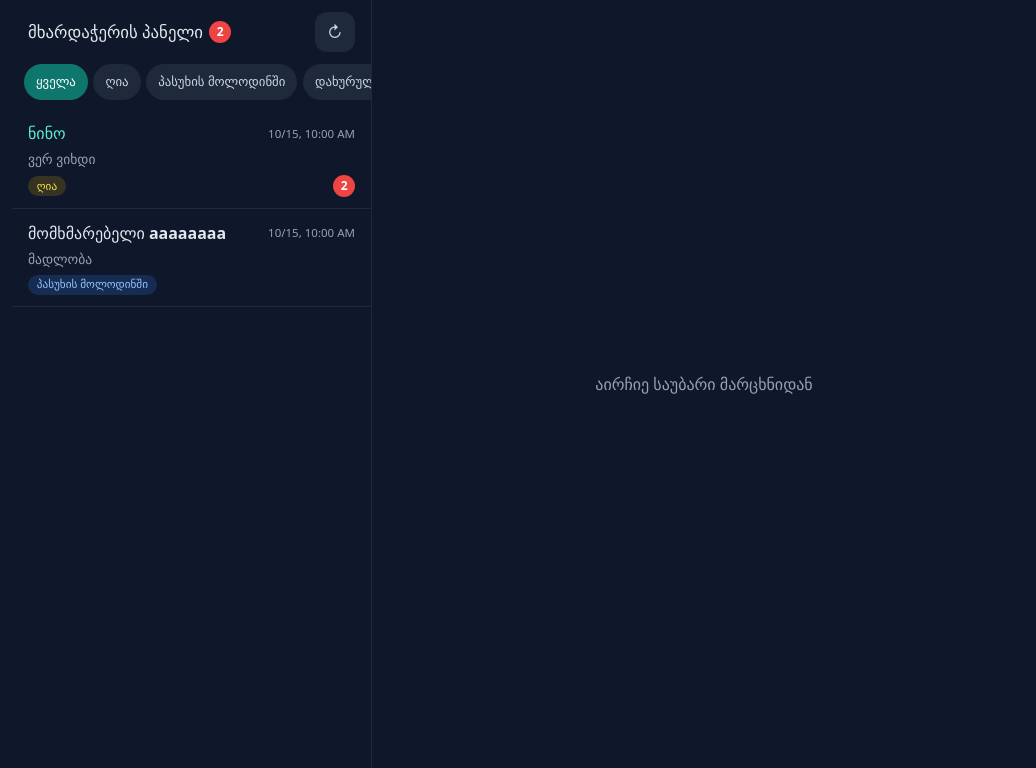
Test: Admin page — workspace › opens a conversation, shows messages and replies as admin; images are not offered to admin
Click the text "ნინო" at [47, 133], box [28,121,66,145]
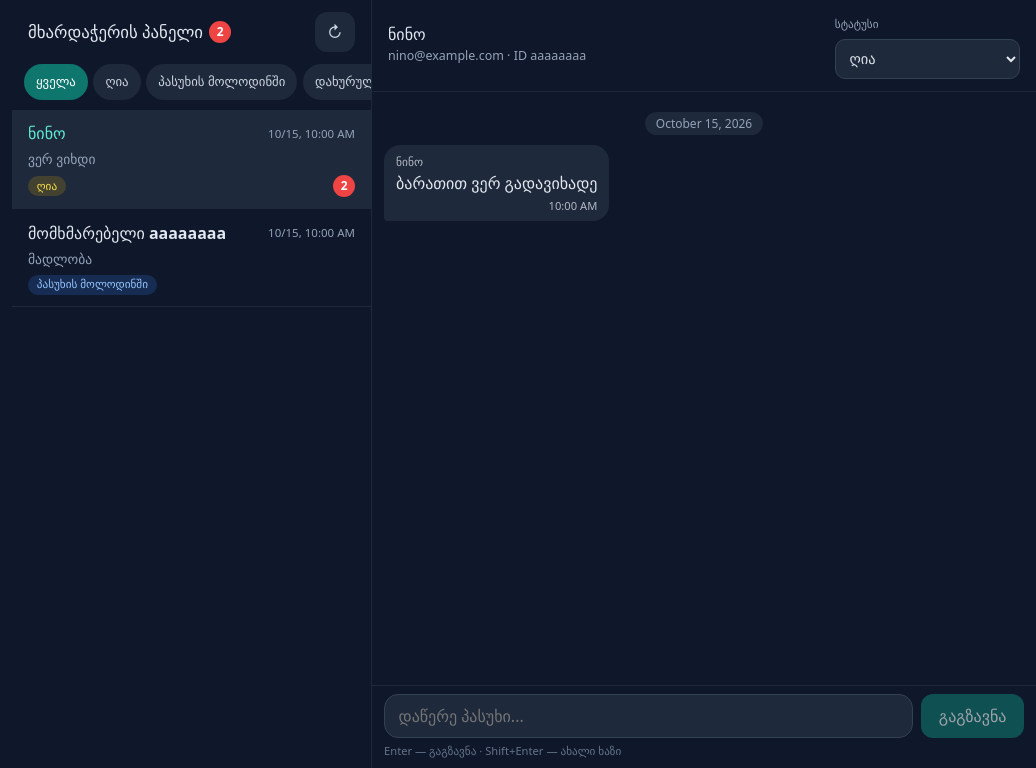
Expected: the text "ბარათით ვერ გადავიხადე" is shown, [396,172,597,195]
Type "გამარჯობა, ვაგვარებთ" into the text box with placeholder "დაწერე პასუხი..." at [649, 716], box [384,694,913,738]
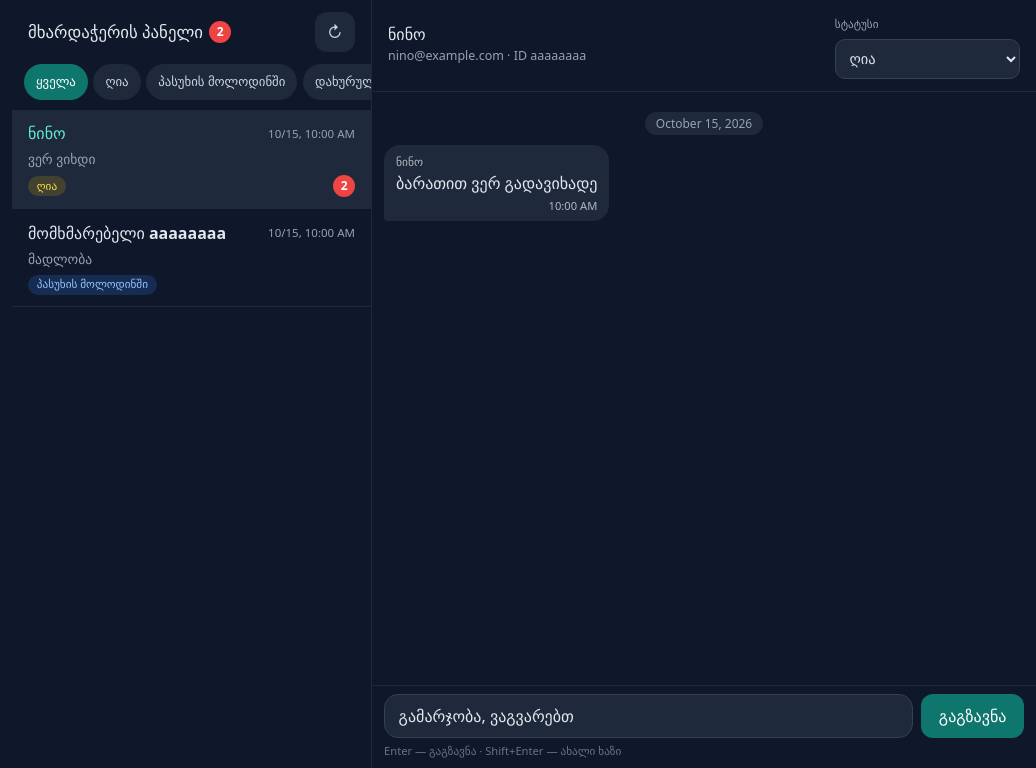
Press Enter in the text box with placeholder "დაწერე პასუხი...", box [384,694,913,738]
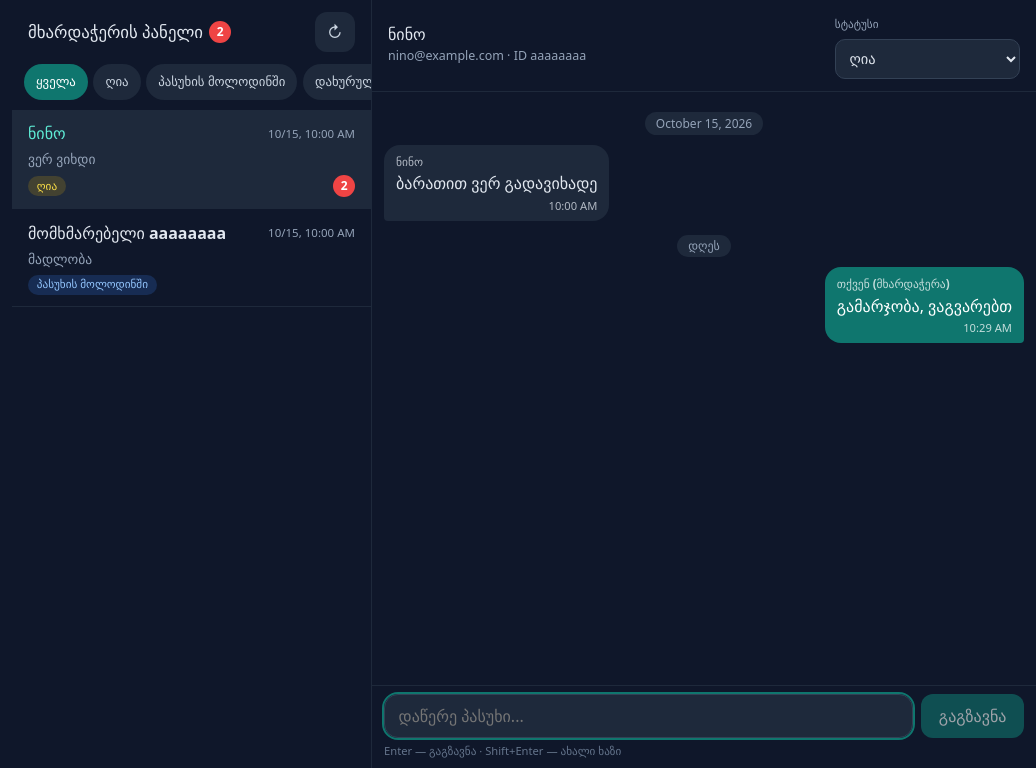
Expected: the text "გამარჯობა, ვაგვარებთ" is shown, [837,295,1012,317]
